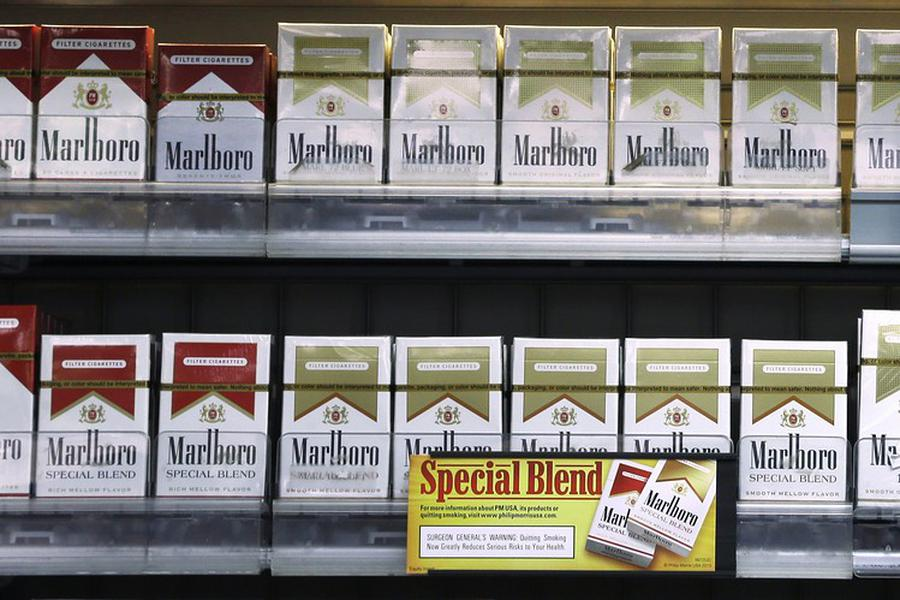marlboro_red: (156, 337, 267, 501), (41, 339, 149, 499), (36, 26, 147, 181), (152, 46, 264, 186)
